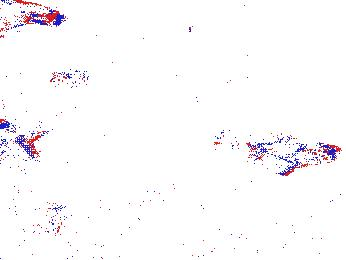X-ray fish: (43, 203, 64, 236)
red belly glassfish: (47, 66, 91, 90), (210, 125, 231, 152)
redtail glassfish: (249, 136, 343, 168), (1, 1, 67, 33), (1, 127, 46, 159)
